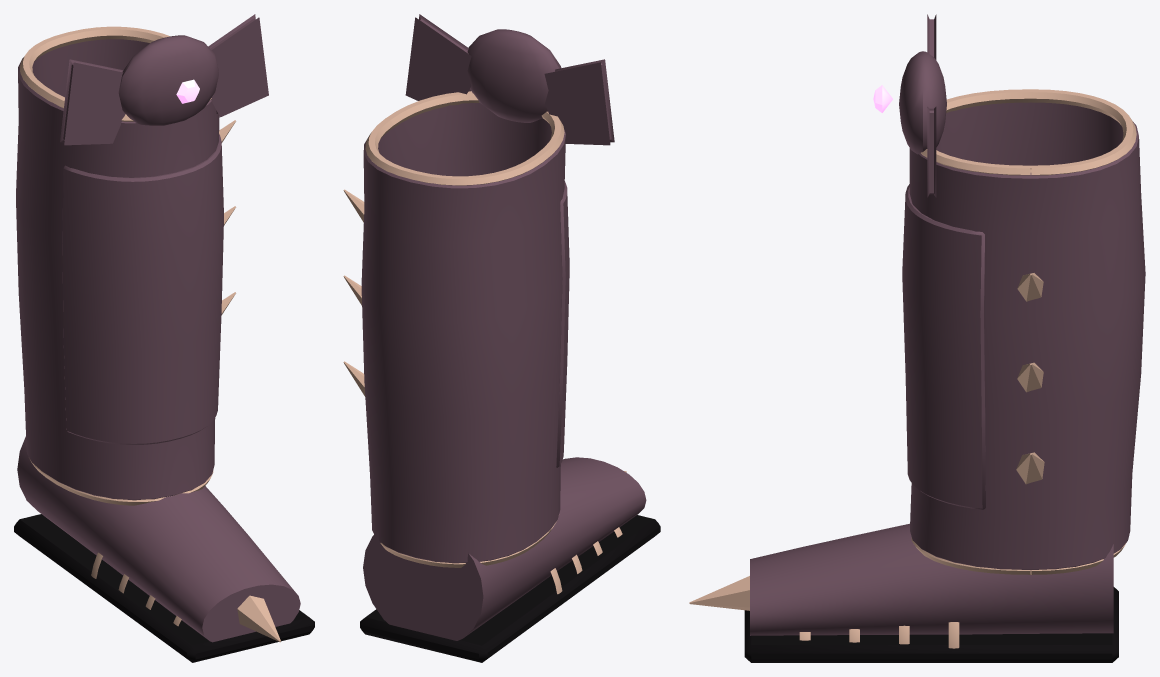
File: asc_aeonbreaker_boots.glb
3 renders of one model, left to right at view 1: azimuth 30°, elevation 25°; view 2: azimuth 150°, elevation 25°; view 3: azimuth 270°, elevation 25°, orthographic. The views are drawn at different scales.
Visible parts, largest first — view 1: asc_aeonbreaker_boots, AT_foot_L; view 2: asc_aeonbreaker_boots, AT_foot_L; view 3: asc_aeonbreaker_boots, AT_foot_L.
Boxes of the visible parts, left/top/right/bottom form: asc_aeonbreaker_boots: left=16, top=14, right=268, bottom=505; AT_foot_L: left=14, top=436, right=314, bottom=662; asc_aeonbreaker_boots: left=343, top=14, right=614, bottom=567; AT_foot_L: left=360, top=457, right=660, bottom=662; asc_aeonbreaker_boots: left=873, top=14, right=1145, bottom=574; AT_foot_L: left=689, top=523, right=1118, bottom=662.
Size of the model in its own units: 0.2427 by 0.5768 by 0.4142.
